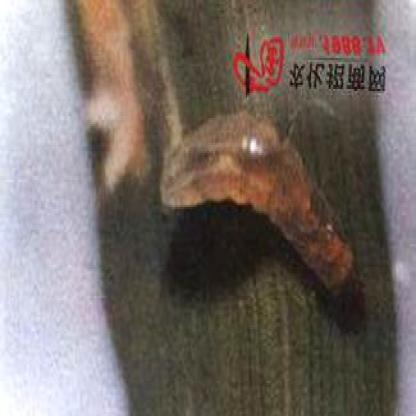whorl-maggot: (158, 114, 356, 308)
